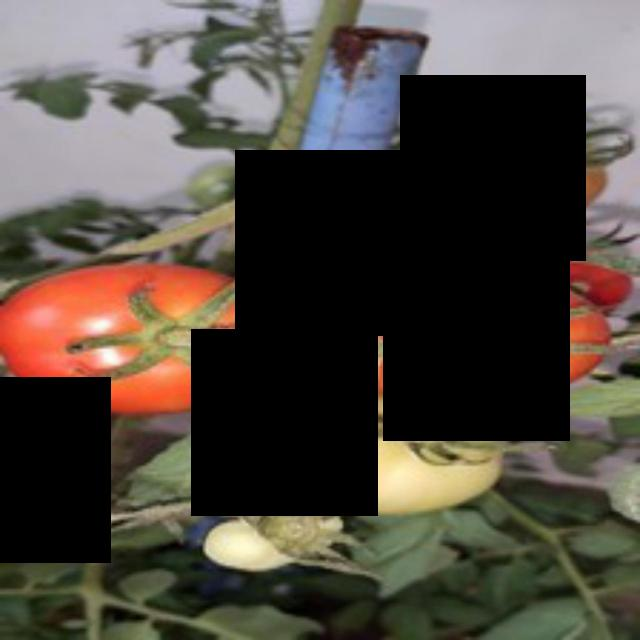tomato: (1, 244, 326, 424), (323, 238, 622, 414)
